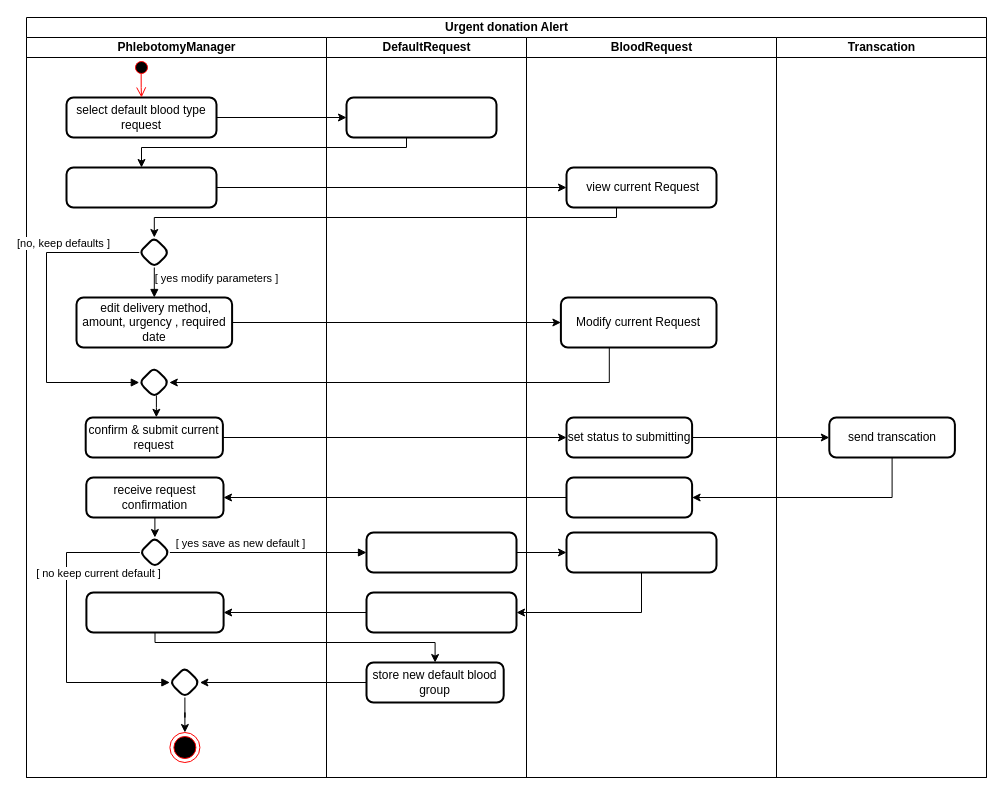
The diagram is 1005 pixels wide and 795 high, and some of its shapes have lost their labels. Here are the shapes that lost their labels. From the top down, the centre of each, then its label:
(x=421, y=117): load default blood type request
(x=141, y=187): duplicate default request into regular request
(x=629, y=497): set status to submited
(x=441, y=552): modify default blood type request
(x=641, y=552): modify parent variable of default blood type request
(x=154, y=612): save new default blood group
(x=441, y=612): modify child variable of default blood type request
